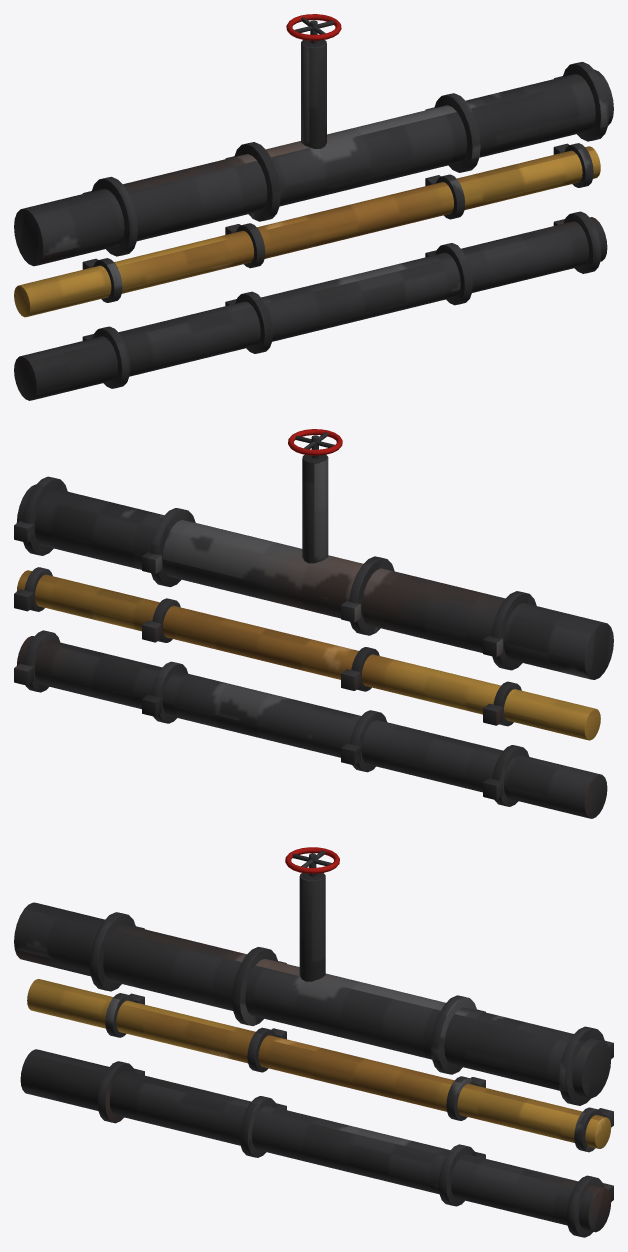
File: prop_pipes.glb
3 views of the same model, one above another, from view 1: azimuth 30°, elevation 25°; view 2: azimuth 150°, elevation 25°; view 3: azimuth 330°, elevation 25° (orthographic).
Parts seen in each view (by area): view 1: prop_pipes; view 2: prop_pipes; view 3: prop_pipes.
Part boxes in pixels (<box>): prop_pipes: <box>14,14,613,400</box>; prop_pipes: <box>14,429,613,818</box>; prop_pipes: <box>14,847,613,1237</box>.
Bounding box in the file's own units: 2 × 1.06 × 0.2715.
3 materials, 3 textured.
